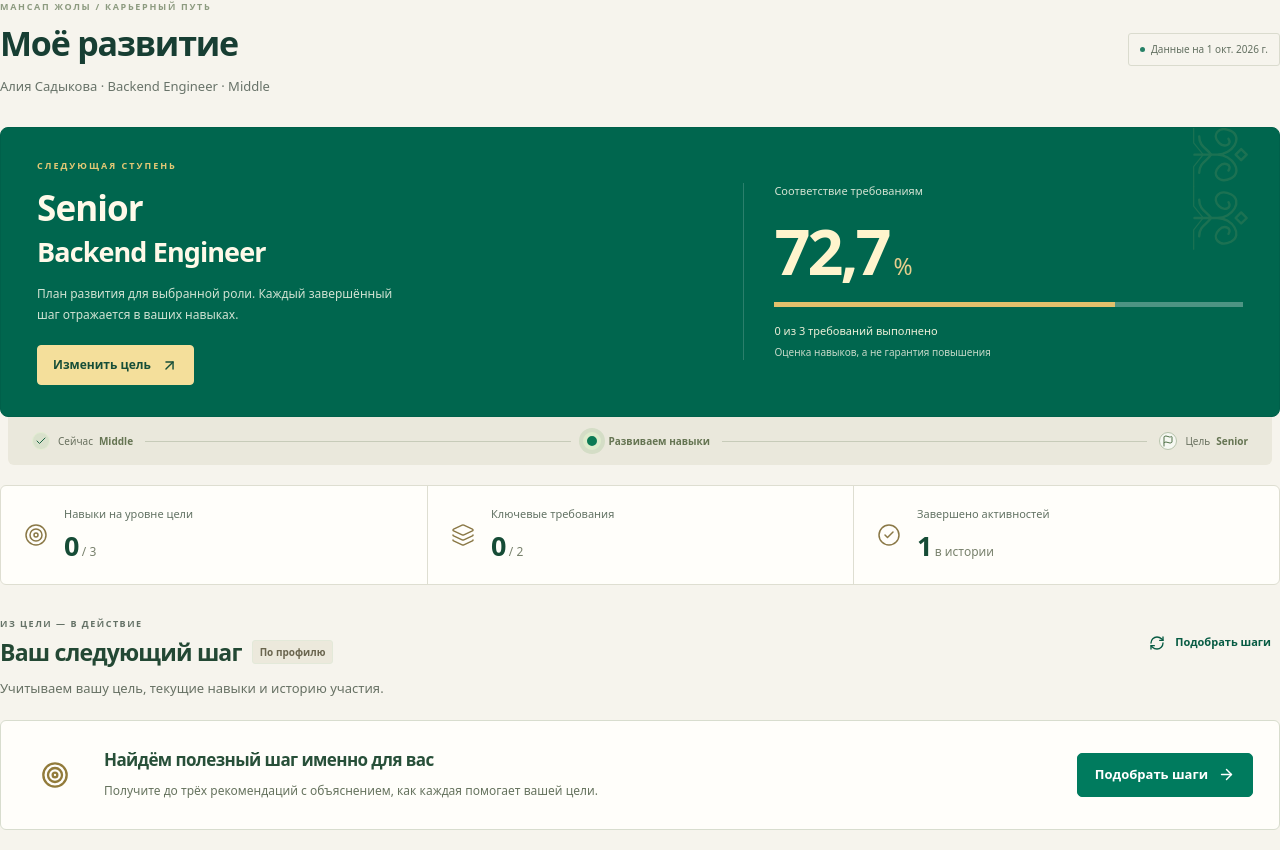
Test: employee workflow › ignores preview errors from a dialog that the user already closed
Click the button "Подобрать шаги" in the row of "По профилю".
click(1210, 643)  # box 1140,621 -> 1279,665
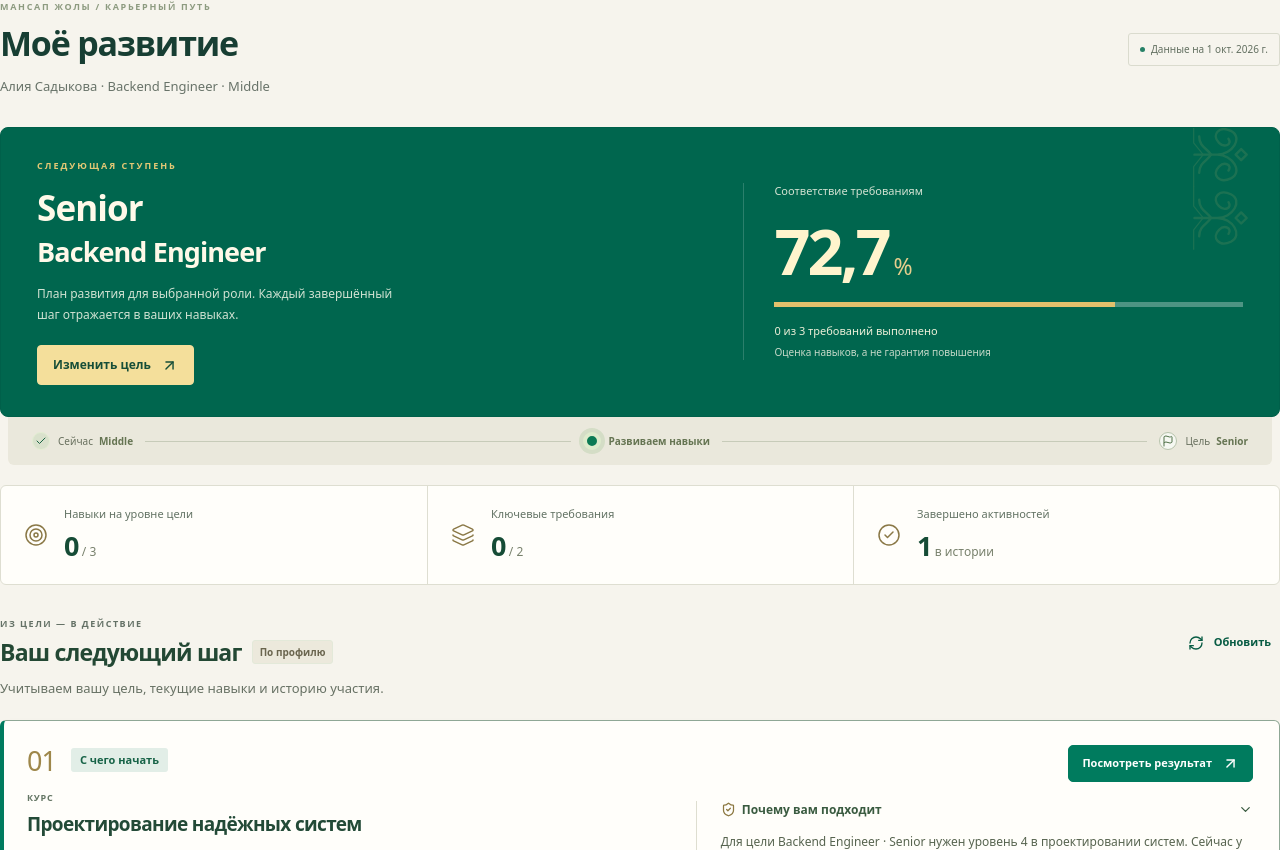
Click the button "Посмотреть результат".
click(1161, 763)  # box 1068,744 -> 1253,782
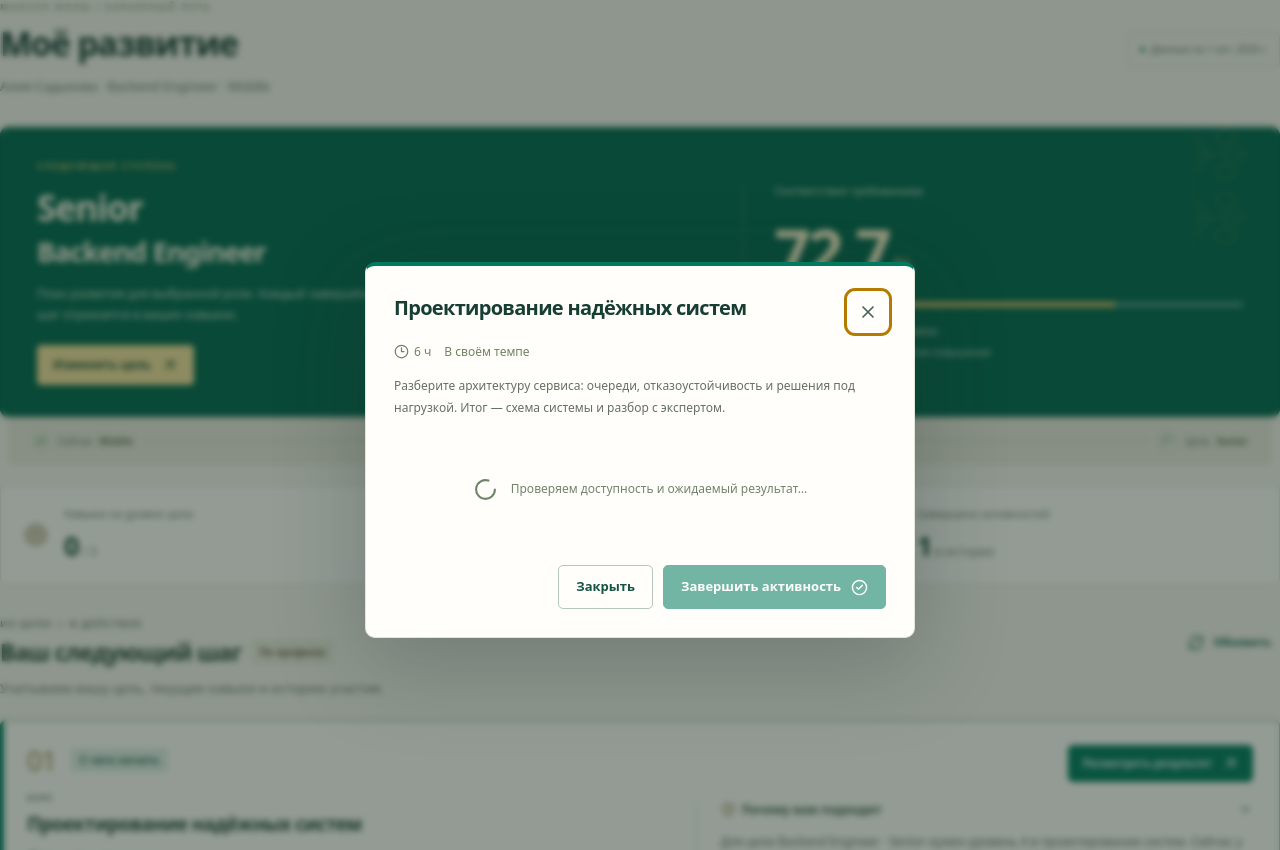
Click the button named "Закрыть".
click(868, 312)  # box 850,294 -> 886,330
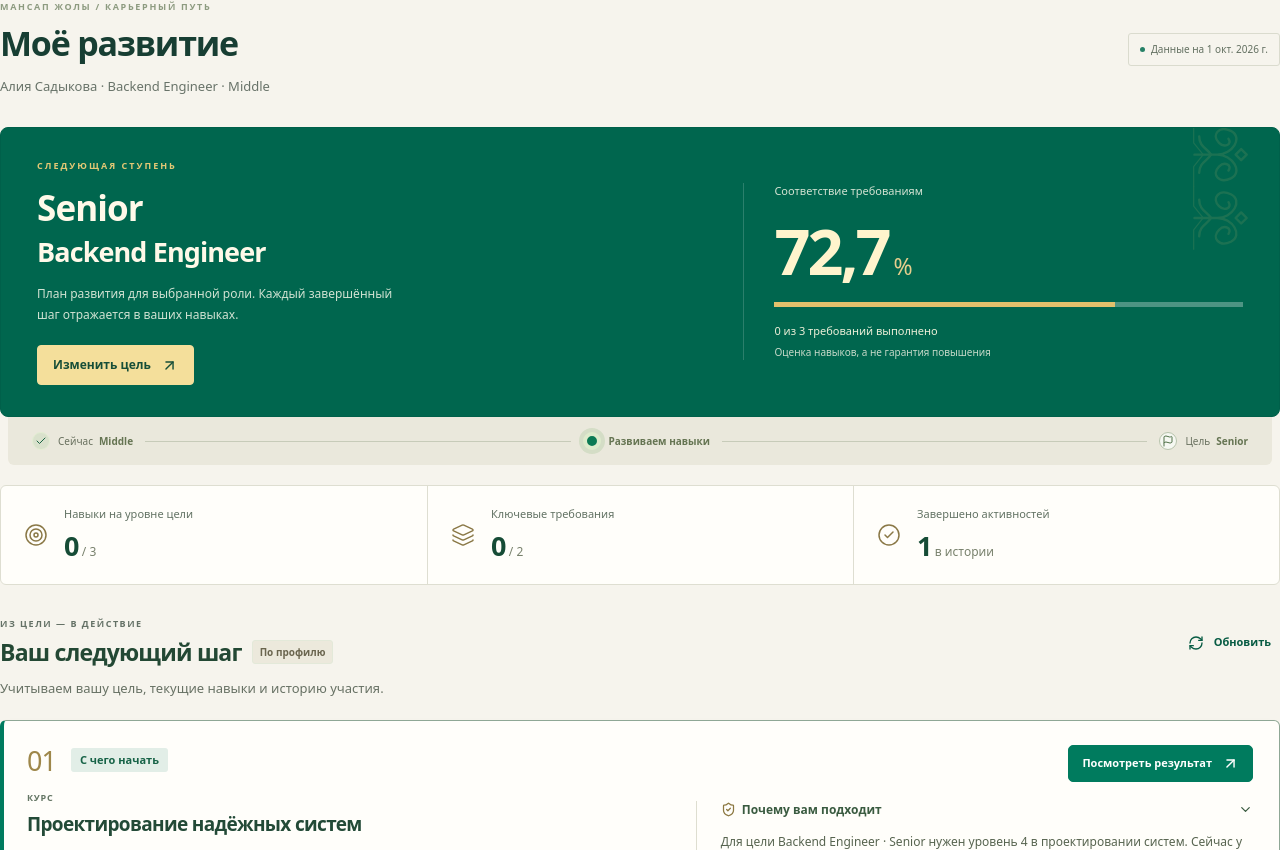
expect the dialog is gone: met
